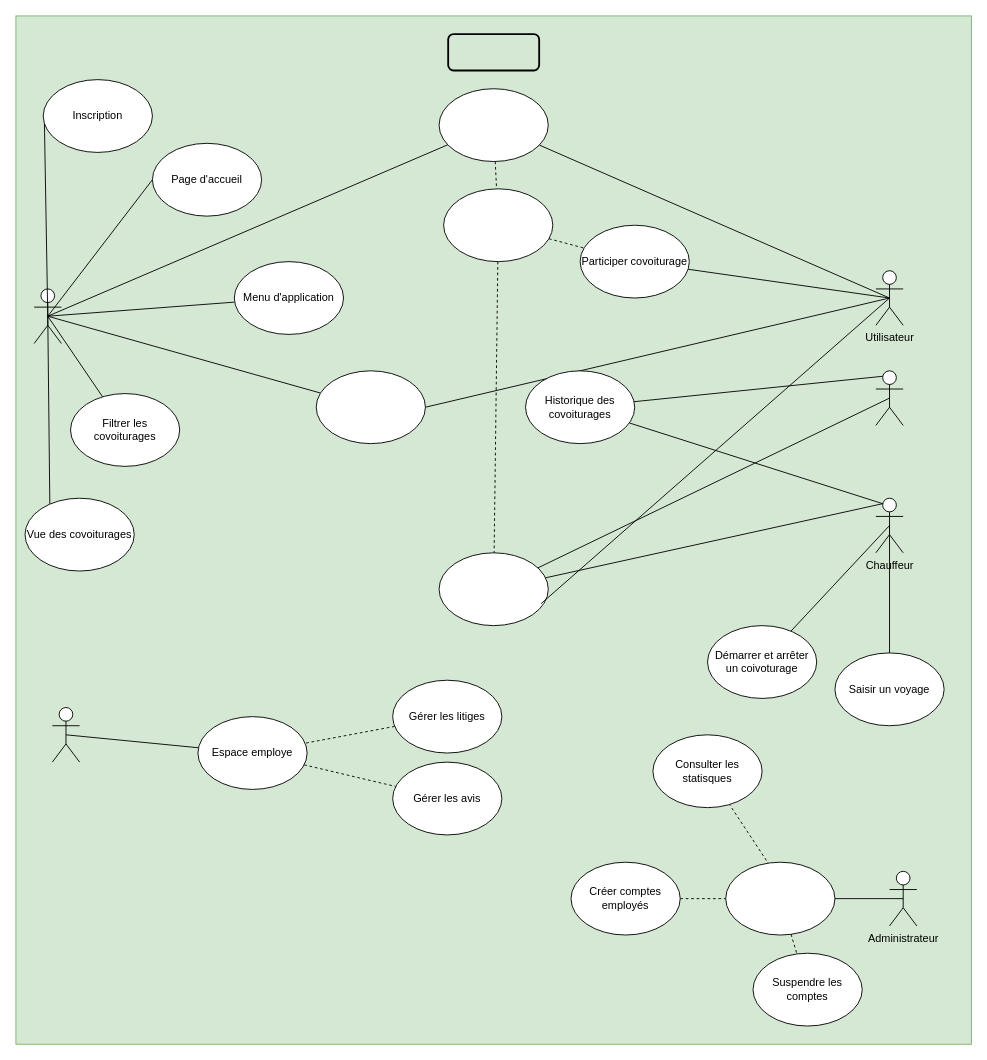
Some shapes in this 987 by 1060 pixel diagram are drawn without their labels. The shapes that lost their labels are listed below. From the top down, each one's centre as x and y in pixels, then its label:
At pixel 493 52: "EcoRide".
At pixel 493 125: "Se connecter".
At pixel 498 225: "Gérer les crédits".
At pixel 47 316: "Visiteur".
At pixel 370 407: "Détails covoiturage".
At pixel 889 397: "Passager".
At pixel 493 589: "Espace Utilisateur".
At pixel 65 734: "Employé".
At pixel 780 898: "Espace administrateur".
